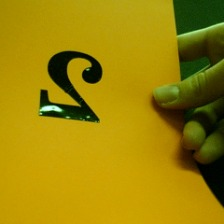orange2: (37, 48, 107, 126)
